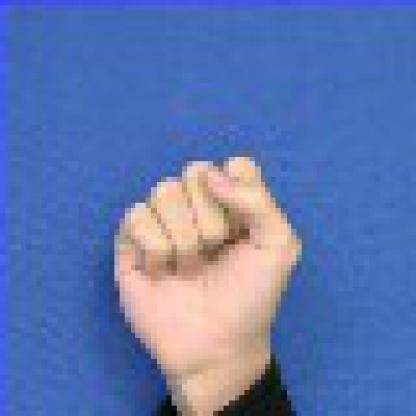zero: (101, 142, 328, 378)
